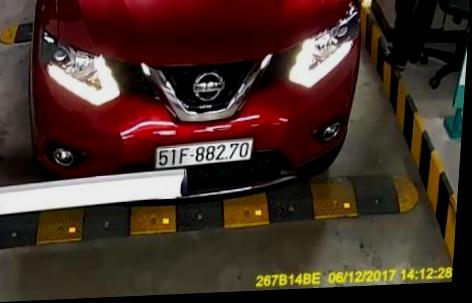License_Plate: (149, 136, 258, 169)
